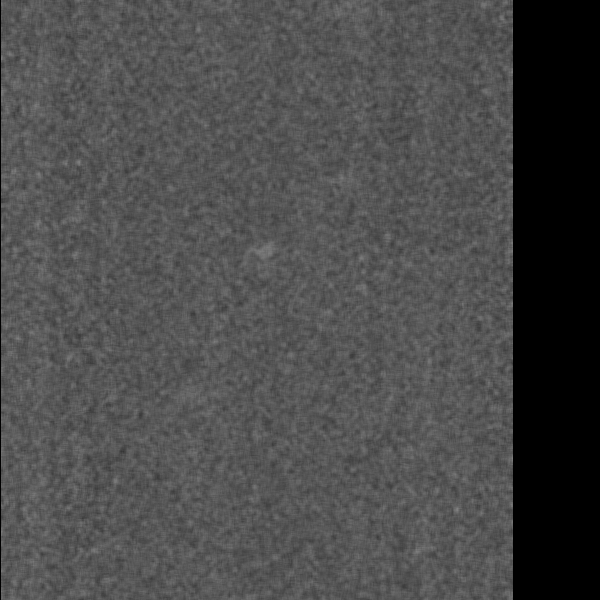spark: (241, 243, 285, 268)
